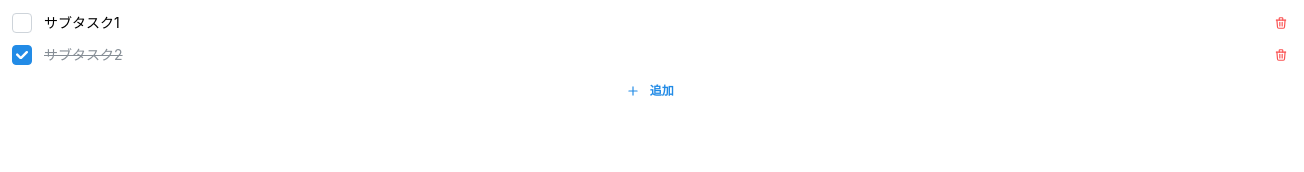
SubTaskList › 追加ボタンをクリックすると入力フィールドが表示される
Click the button "追加". click: [652, 91]
box: [12,76,1292,106]
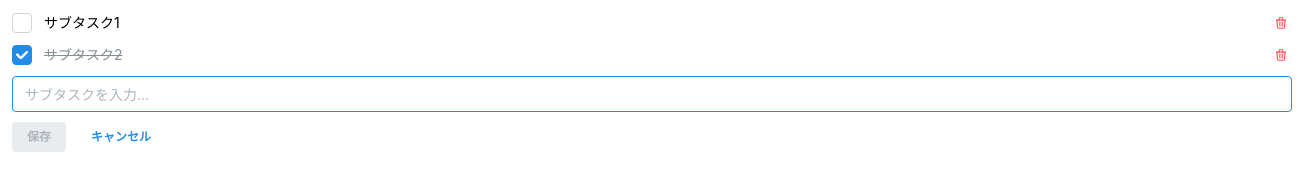
Expected: the field with placeholder "サブタスクを入力..." is shown, [12,76,1292,112]
Expected: the button "保存" is shown, [12,122,66,152]
Expected: the button "キャンセル" is shown, [76,122,166,152]
